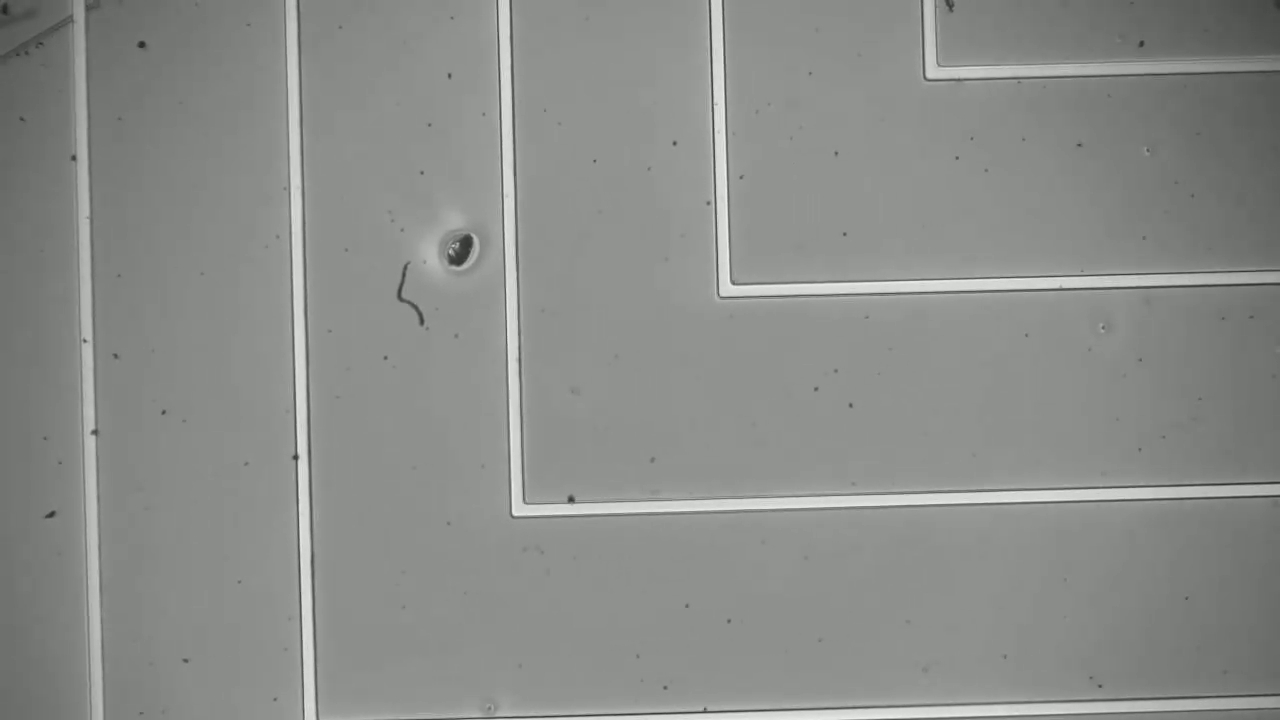scratch: (1, 1, 91, 84)
